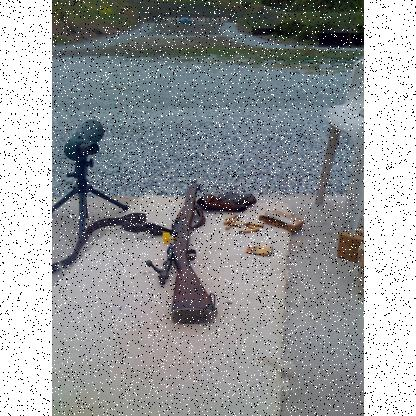gun: (143, 180, 219, 324)
